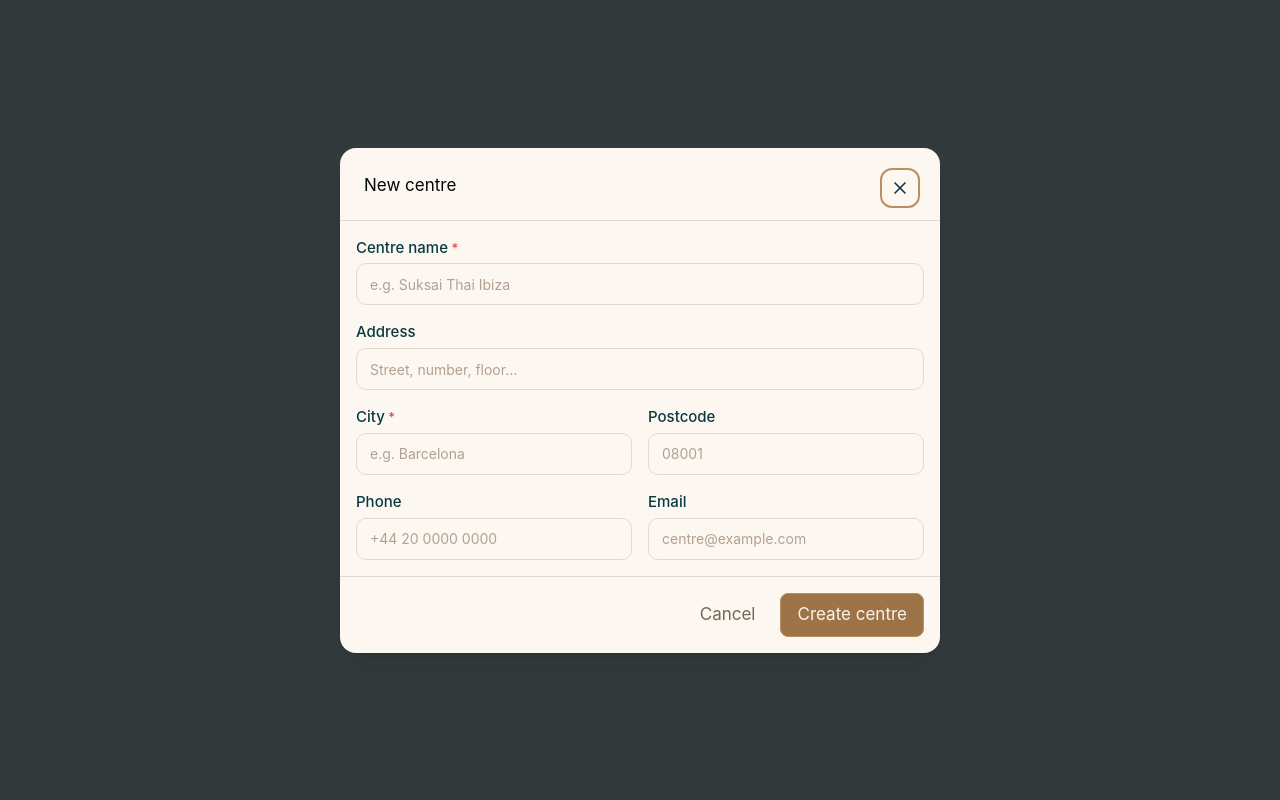
Test: CentroModal — validation › shows error banner when nombre is empty on submit
Leave nombre empty, fill ciudad
In the field labelled "City": coordinates (494, 454) x1=356 y1=433 x2=632 y2=475, type "Madrid"
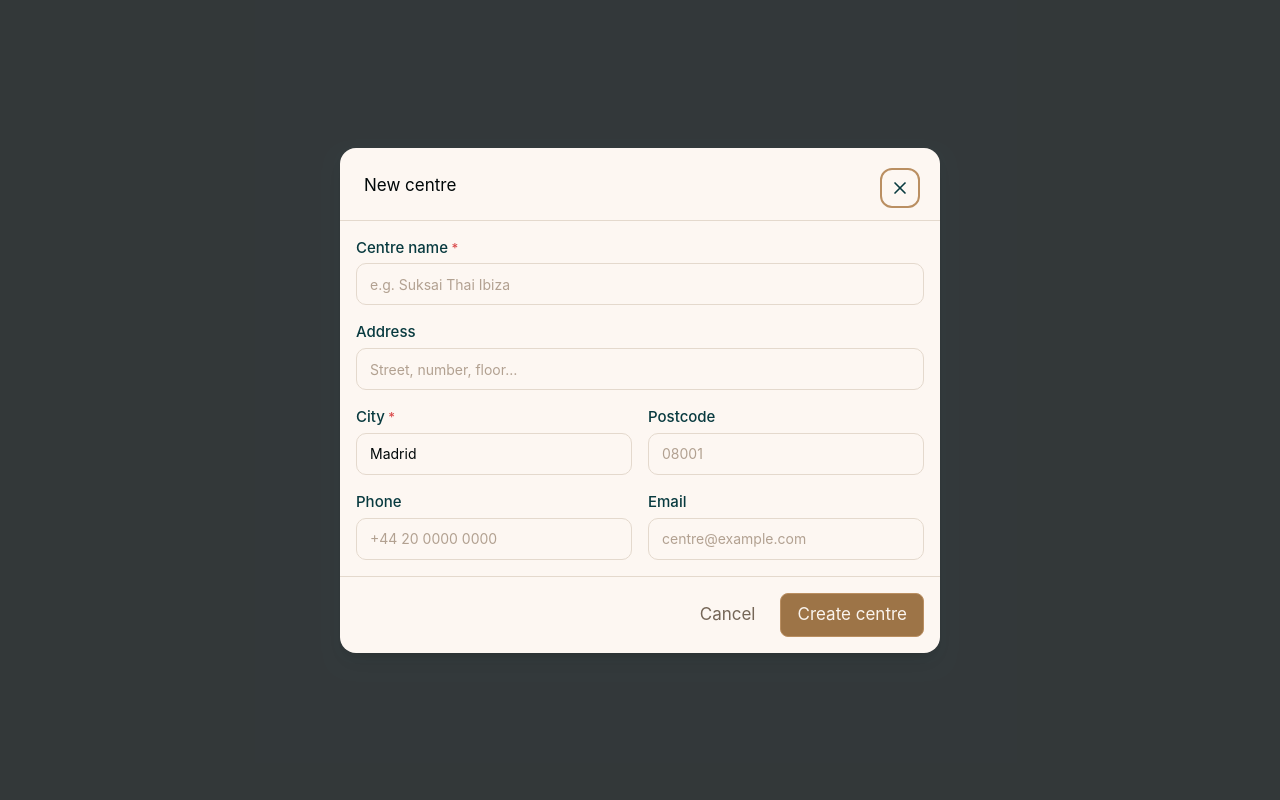
Click the button "Create centre": coordinates (852, 614) x1=780 y1=592 x2=924 y2=636
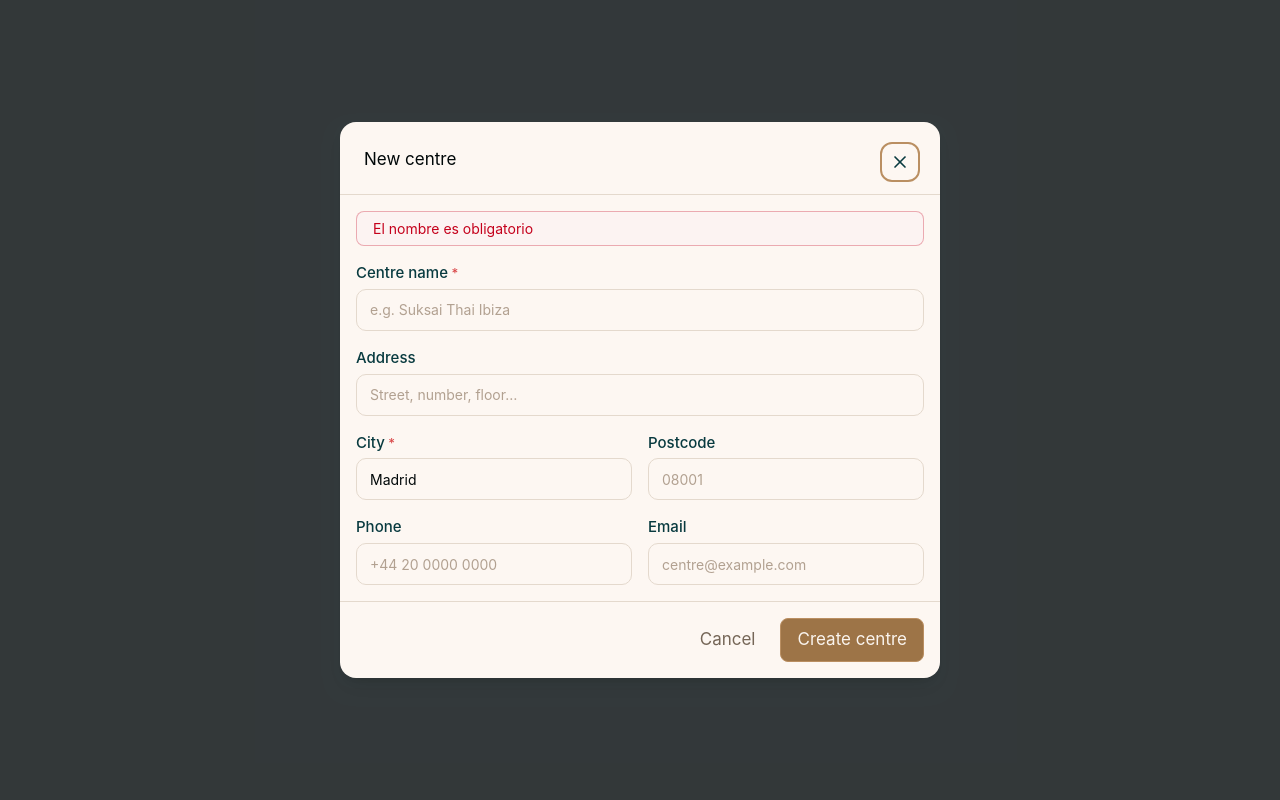
expect the message "El nombre es obligatorio" is shown: met, box x1=356 y1=211 x2=924 y2=246
